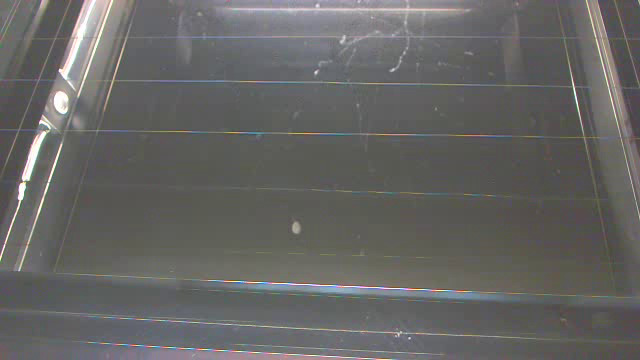alpha: (282, 217, 310, 239), (249, 124, 266, 148)
